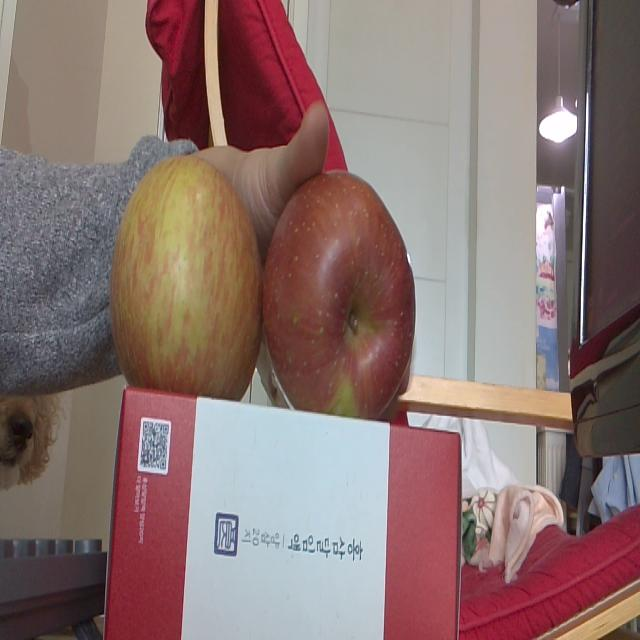apple: (260, 170, 416, 417), (108, 152, 260, 404)
